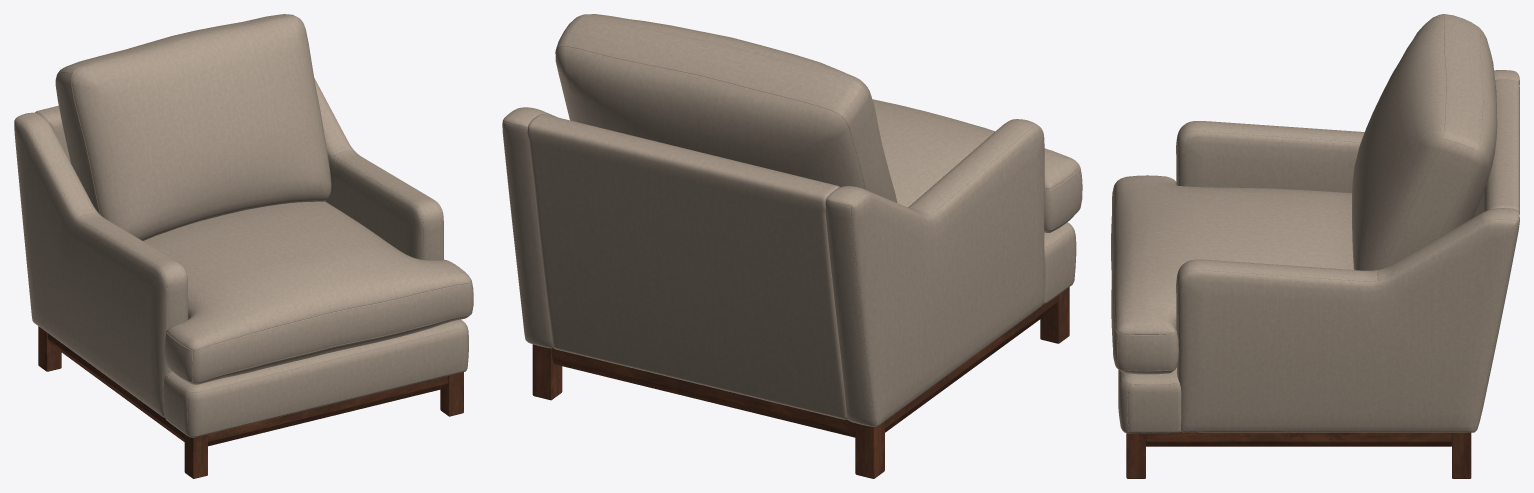
File: sofa_B07J2W23YZ.glb
The picture shows the model from 3 angles, left to right: view 1: azimuth 30°, elevation 25°; view 2: azimuth 150°, elevation 25°; view 3: azimuth 270°, elevation 25°; orthographic projection. The views are drawn at different scales.
Parts seen in each view (by area): view 1: RootNode; view 2: RootNode; view 3: RootNode.
Boxes of the visible parts, <box> form: RootNode: <box>14,14,473,478</box>; RootNode: <box>502,14,1082,478</box>; RootNode: <box>1111,14,1519,478</box>.
Bounding box in the file's own units: 0.9116 × 0.9161 × 1.
Materials: 1 (1 with a texture image).
